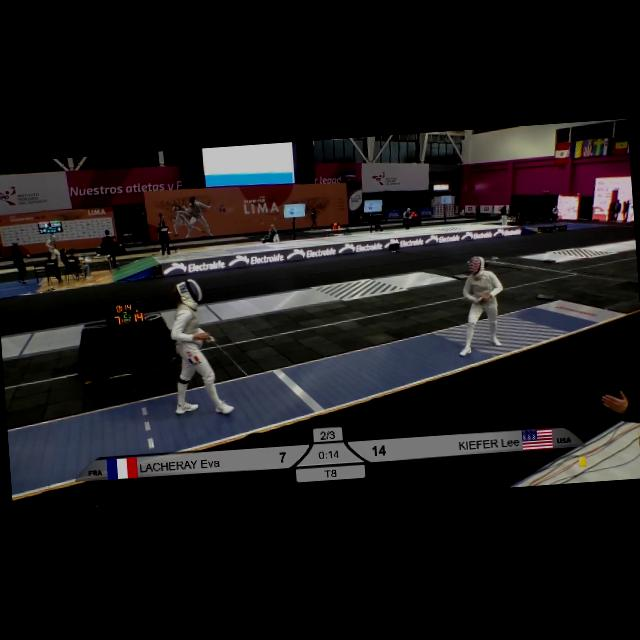blade: (208, 332, 251, 381)
